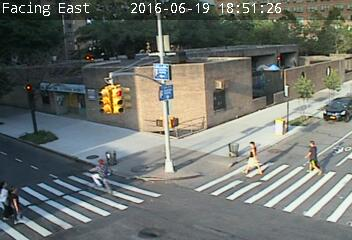neg: (85, 154, 114, 193)
pos: (236, 136, 264, 173), (299, 138, 326, 173), (1, 185, 26, 219)
